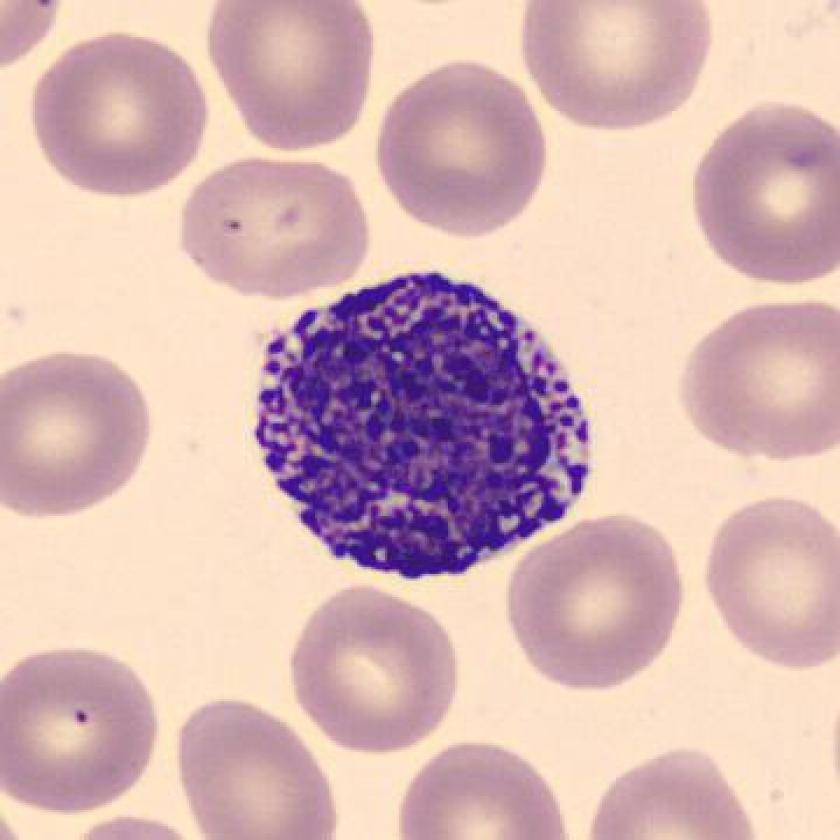basophil: (241, 265, 610, 589)
